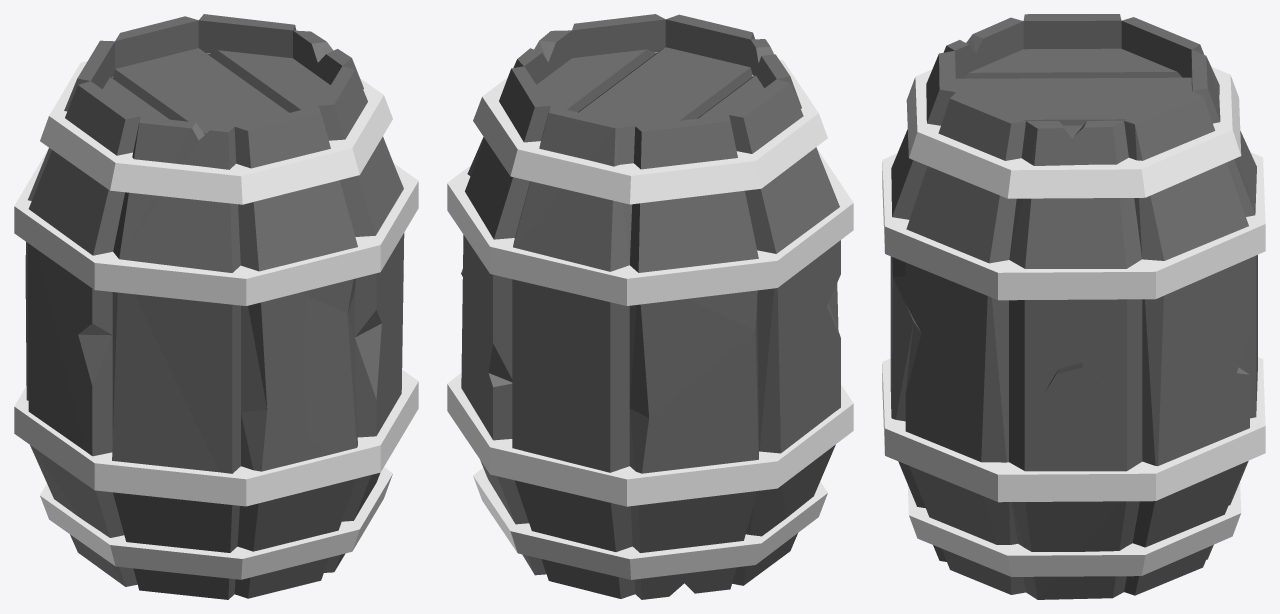
File: SM_Prop_Barrel_01.fbx
3 views of the same model, side by side, from view 1: azimuth 30°, elevation 25°; view 2: azimuth 150°, elevation 25°; view 3: azimuth 270°, elevation 25° (orthographic).
Visible parts, largest first — view 1: SM_Prop_Barrel_01; view 2: SM_Prop_Barrel_01; view 3: SM_Prop_Barrel_01.
Boxes of the visible parts, bbox=[...] form: SM_Prop_Barrel_01: bbox=[14, 14, 418, 599]; SM_Prop_Barrel_01: bbox=[447, 14, 853, 599]; SM_Prop_Barrel_01: bbox=[882, 14, 1265, 599].
Bounding box in the file's own units: 88.45 × 117 × 86.21.
